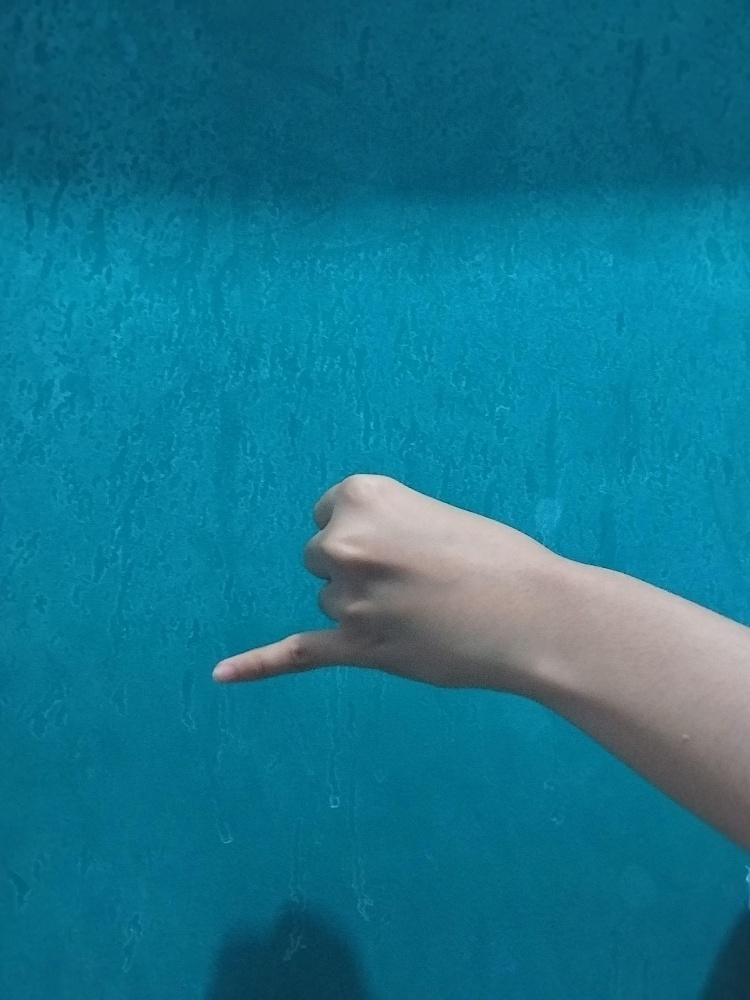j: (208, 470, 538, 687)
